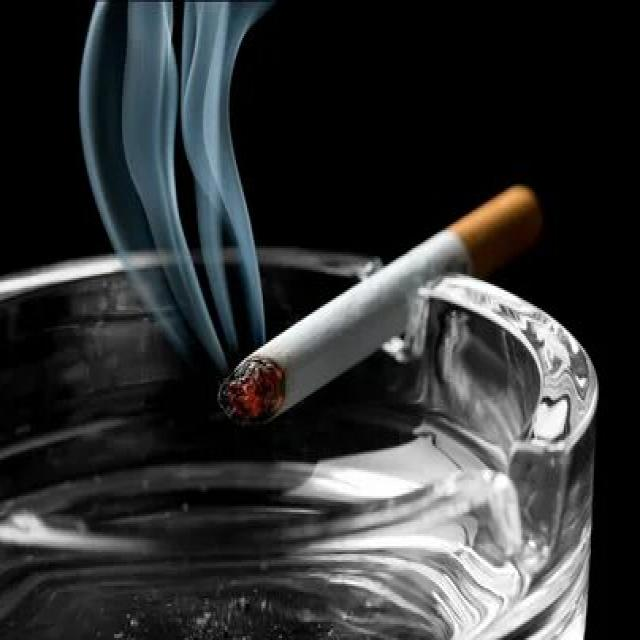cigarette: (206, 170, 553, 436)
